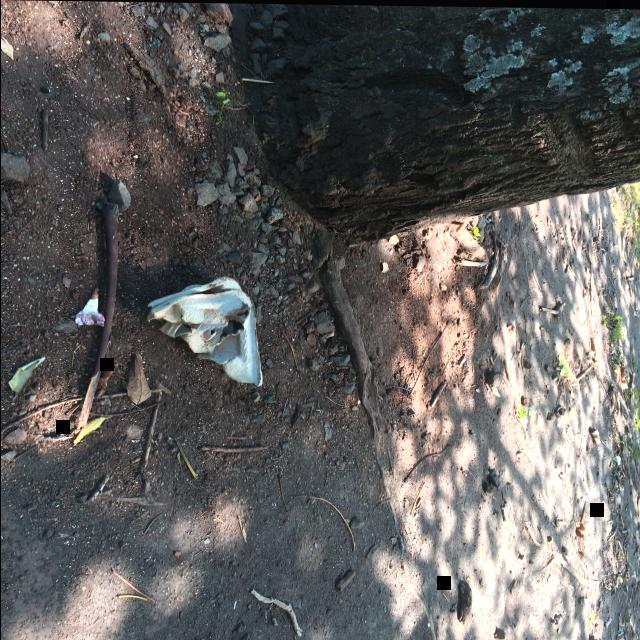Egg carton: (146, 276, 262, 386)
Other plastic bottle: (146, 38, 161, 48)
